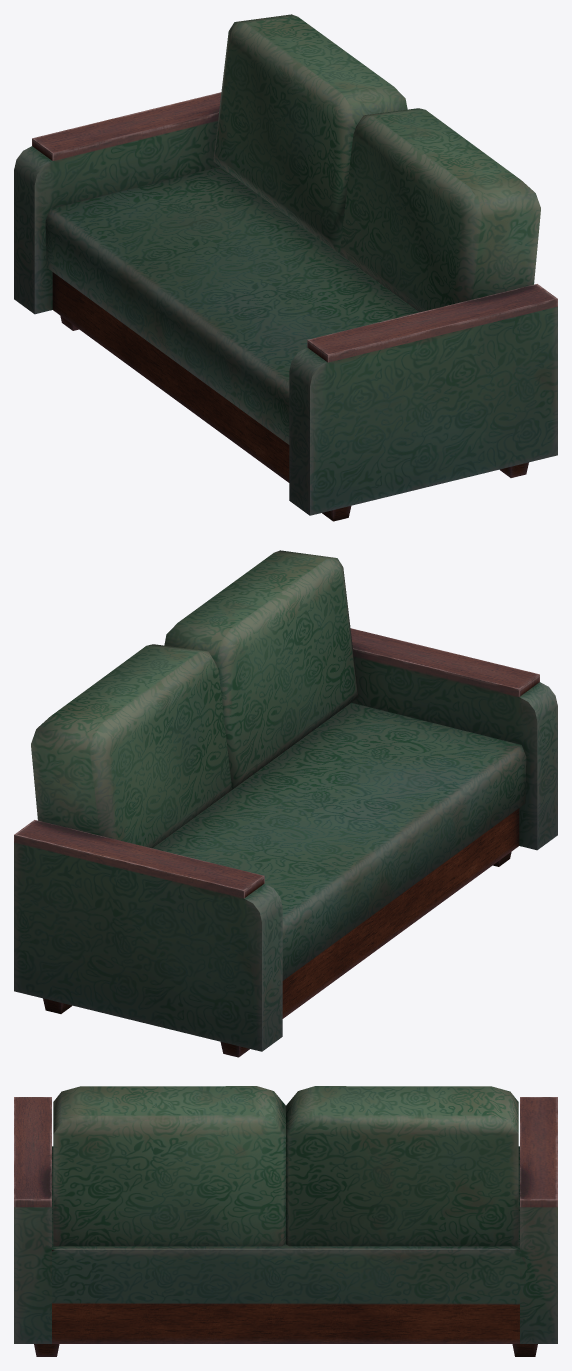
The picture shows the model from 3 angles, top to bottom: view 1: azimuth 30°, elevation 25°; view 2: azimuth 150°, elevation 25°; view 3: azimuth 270°, elevation 25°; orthographic projection. The views are drawn at different scales.
Visible parts, largest first — view 1: MSH_Sofa_Soviet; view 2: MSH_Sofa_Soviet; view 3: MSH_Sofa_Soviet.
Boxes of the visible parts, bbox=[...] form: MSH_Sofa_Soviet: bbox=[14, 14, 557, 521]; MSH_Sofa_Soviet: bbox=[14, 550, 557, 1057]; MSH_Sofa_Soviet: bbox=[14, 1086, 557, 1356].
Size of the model in its own units: 101 by 106 by 205.
Materials: 1 (1 with a texture image).
